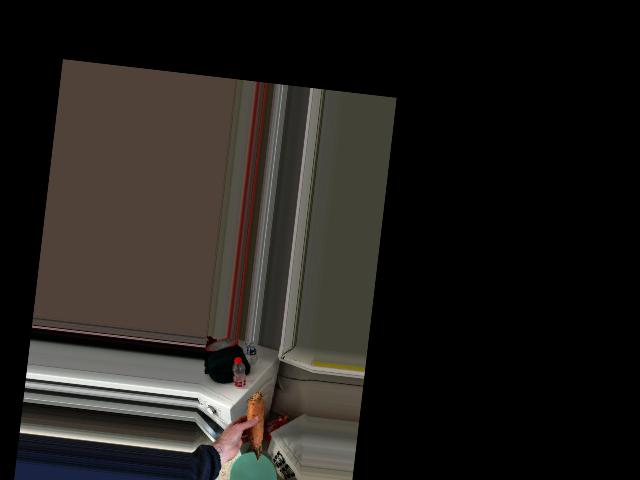sweet_potato: (243, 388, 266, 461)
